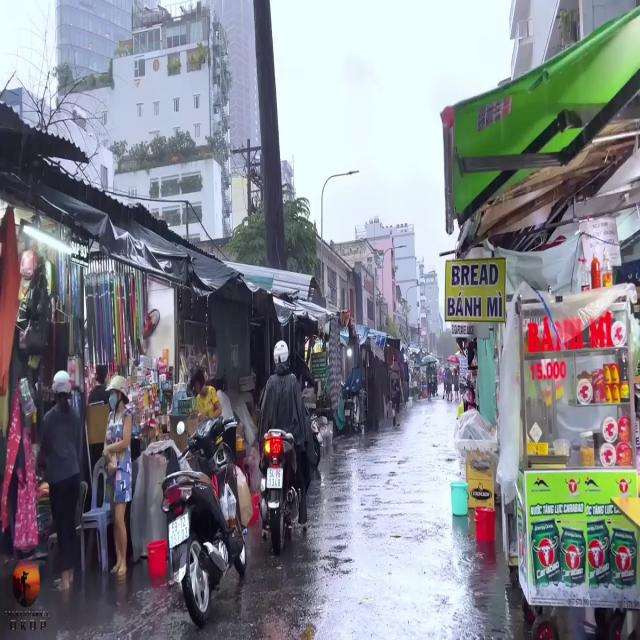bien_trang: (167, 518, 192, 544), (268, 464, 282, 490)
